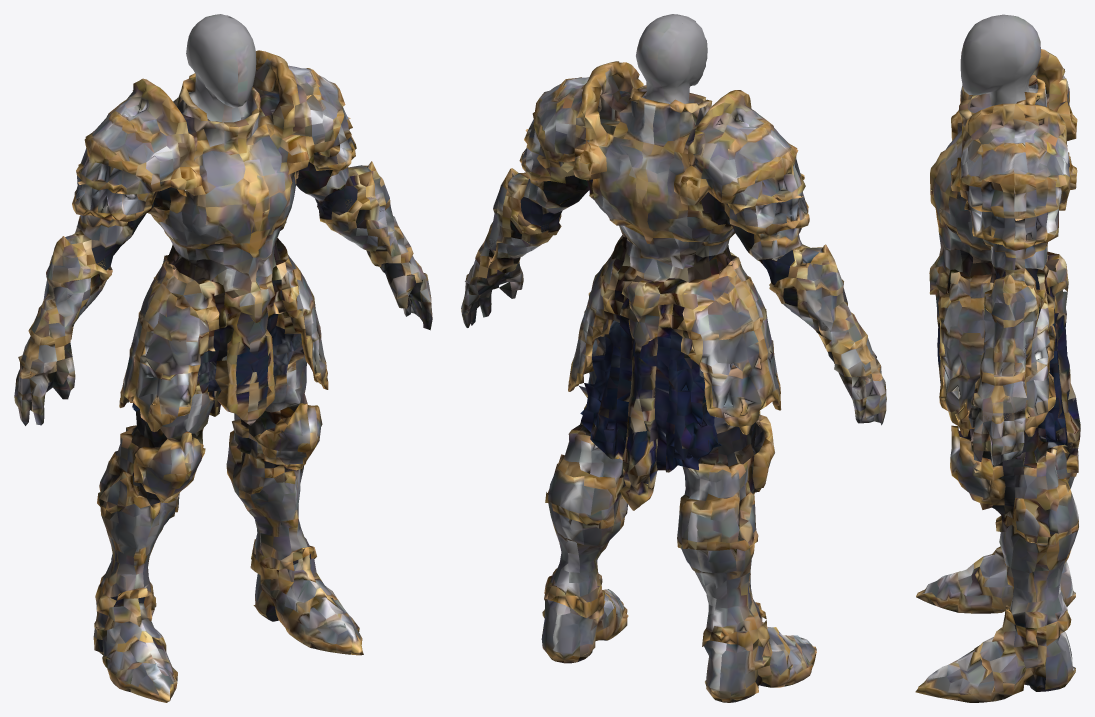
The model's file is zirh_agir_plaka.glb.
3 views of the same model, side by side, from view 1: azimuth 30°, elevation 25°; view 2: azimuth 150°, elevation 25°; view 3: azimuth 270°, elevation 25° (orthographic). The views are drawn at different scales.
Visible parts, largest first — view 1: zirh_agir_plaka; view 2: zirh_agir_plaka; view 3: zirh_agir_plaka.
Boxes of the visible parts, <box> form: zirh_agir_plaka: <box>14,14,432,702</box>; zirh_agir_plaka: <box>461,14,886,702</box>; zirh_agir_plaka: <box>915,14,1080,702</box>.
Size of the model in its own units: 1.3 by 1.9 by 0.4543.
Materials: 1 (1 with a texture image).
